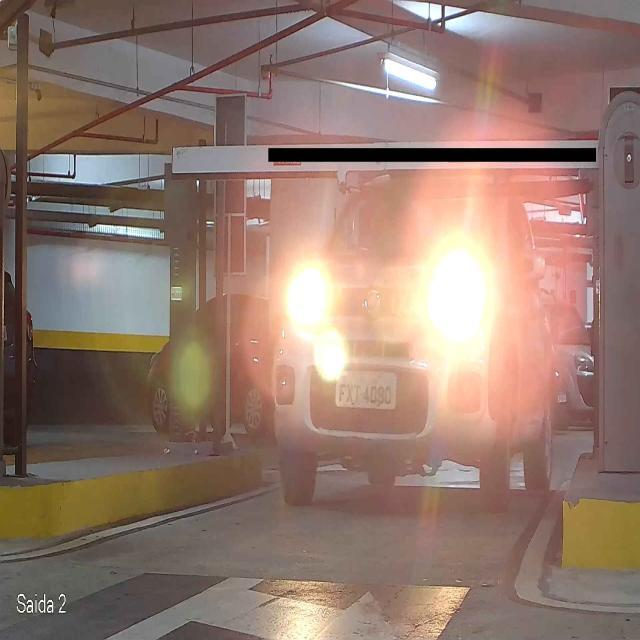old_plate: (332, 368, 399, 411)
